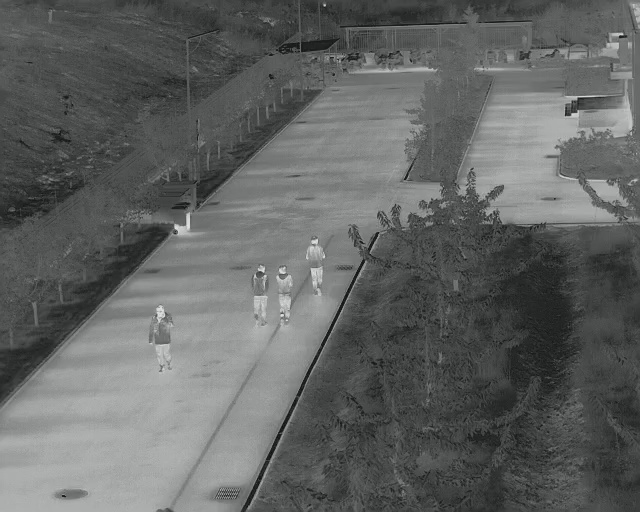person: (149, 302, 174, 375), (304, 235, 326, 297), (250, 263, 269, 326), (275, 265, 292, 325)
